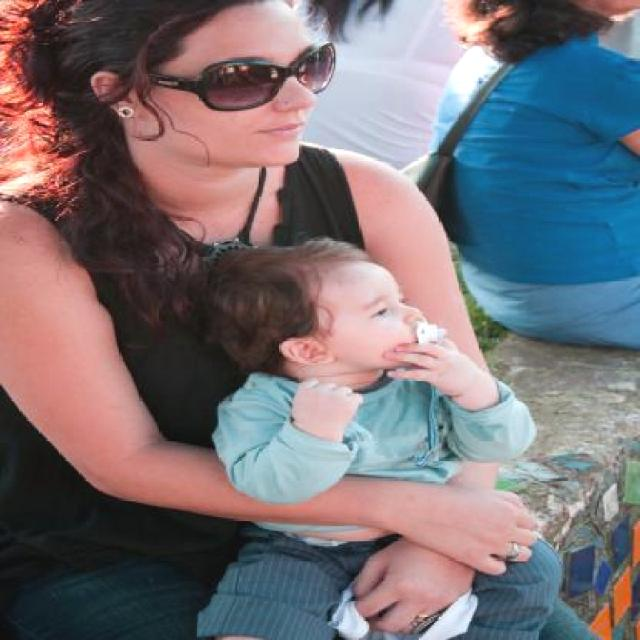face_nomask: (210, 40, 338, 152)
glasses: (141, 53, 342, 113)
hand_noglove: (340, 546, 463, 634), (467, 478, 542, 580), (378, 322, 468, 395), (286, 375, 376, 430)
head_nohelmet: (82, 0, 307, 43), (250, 235, 402, 293)
person: (0, 0, 494, 640)
